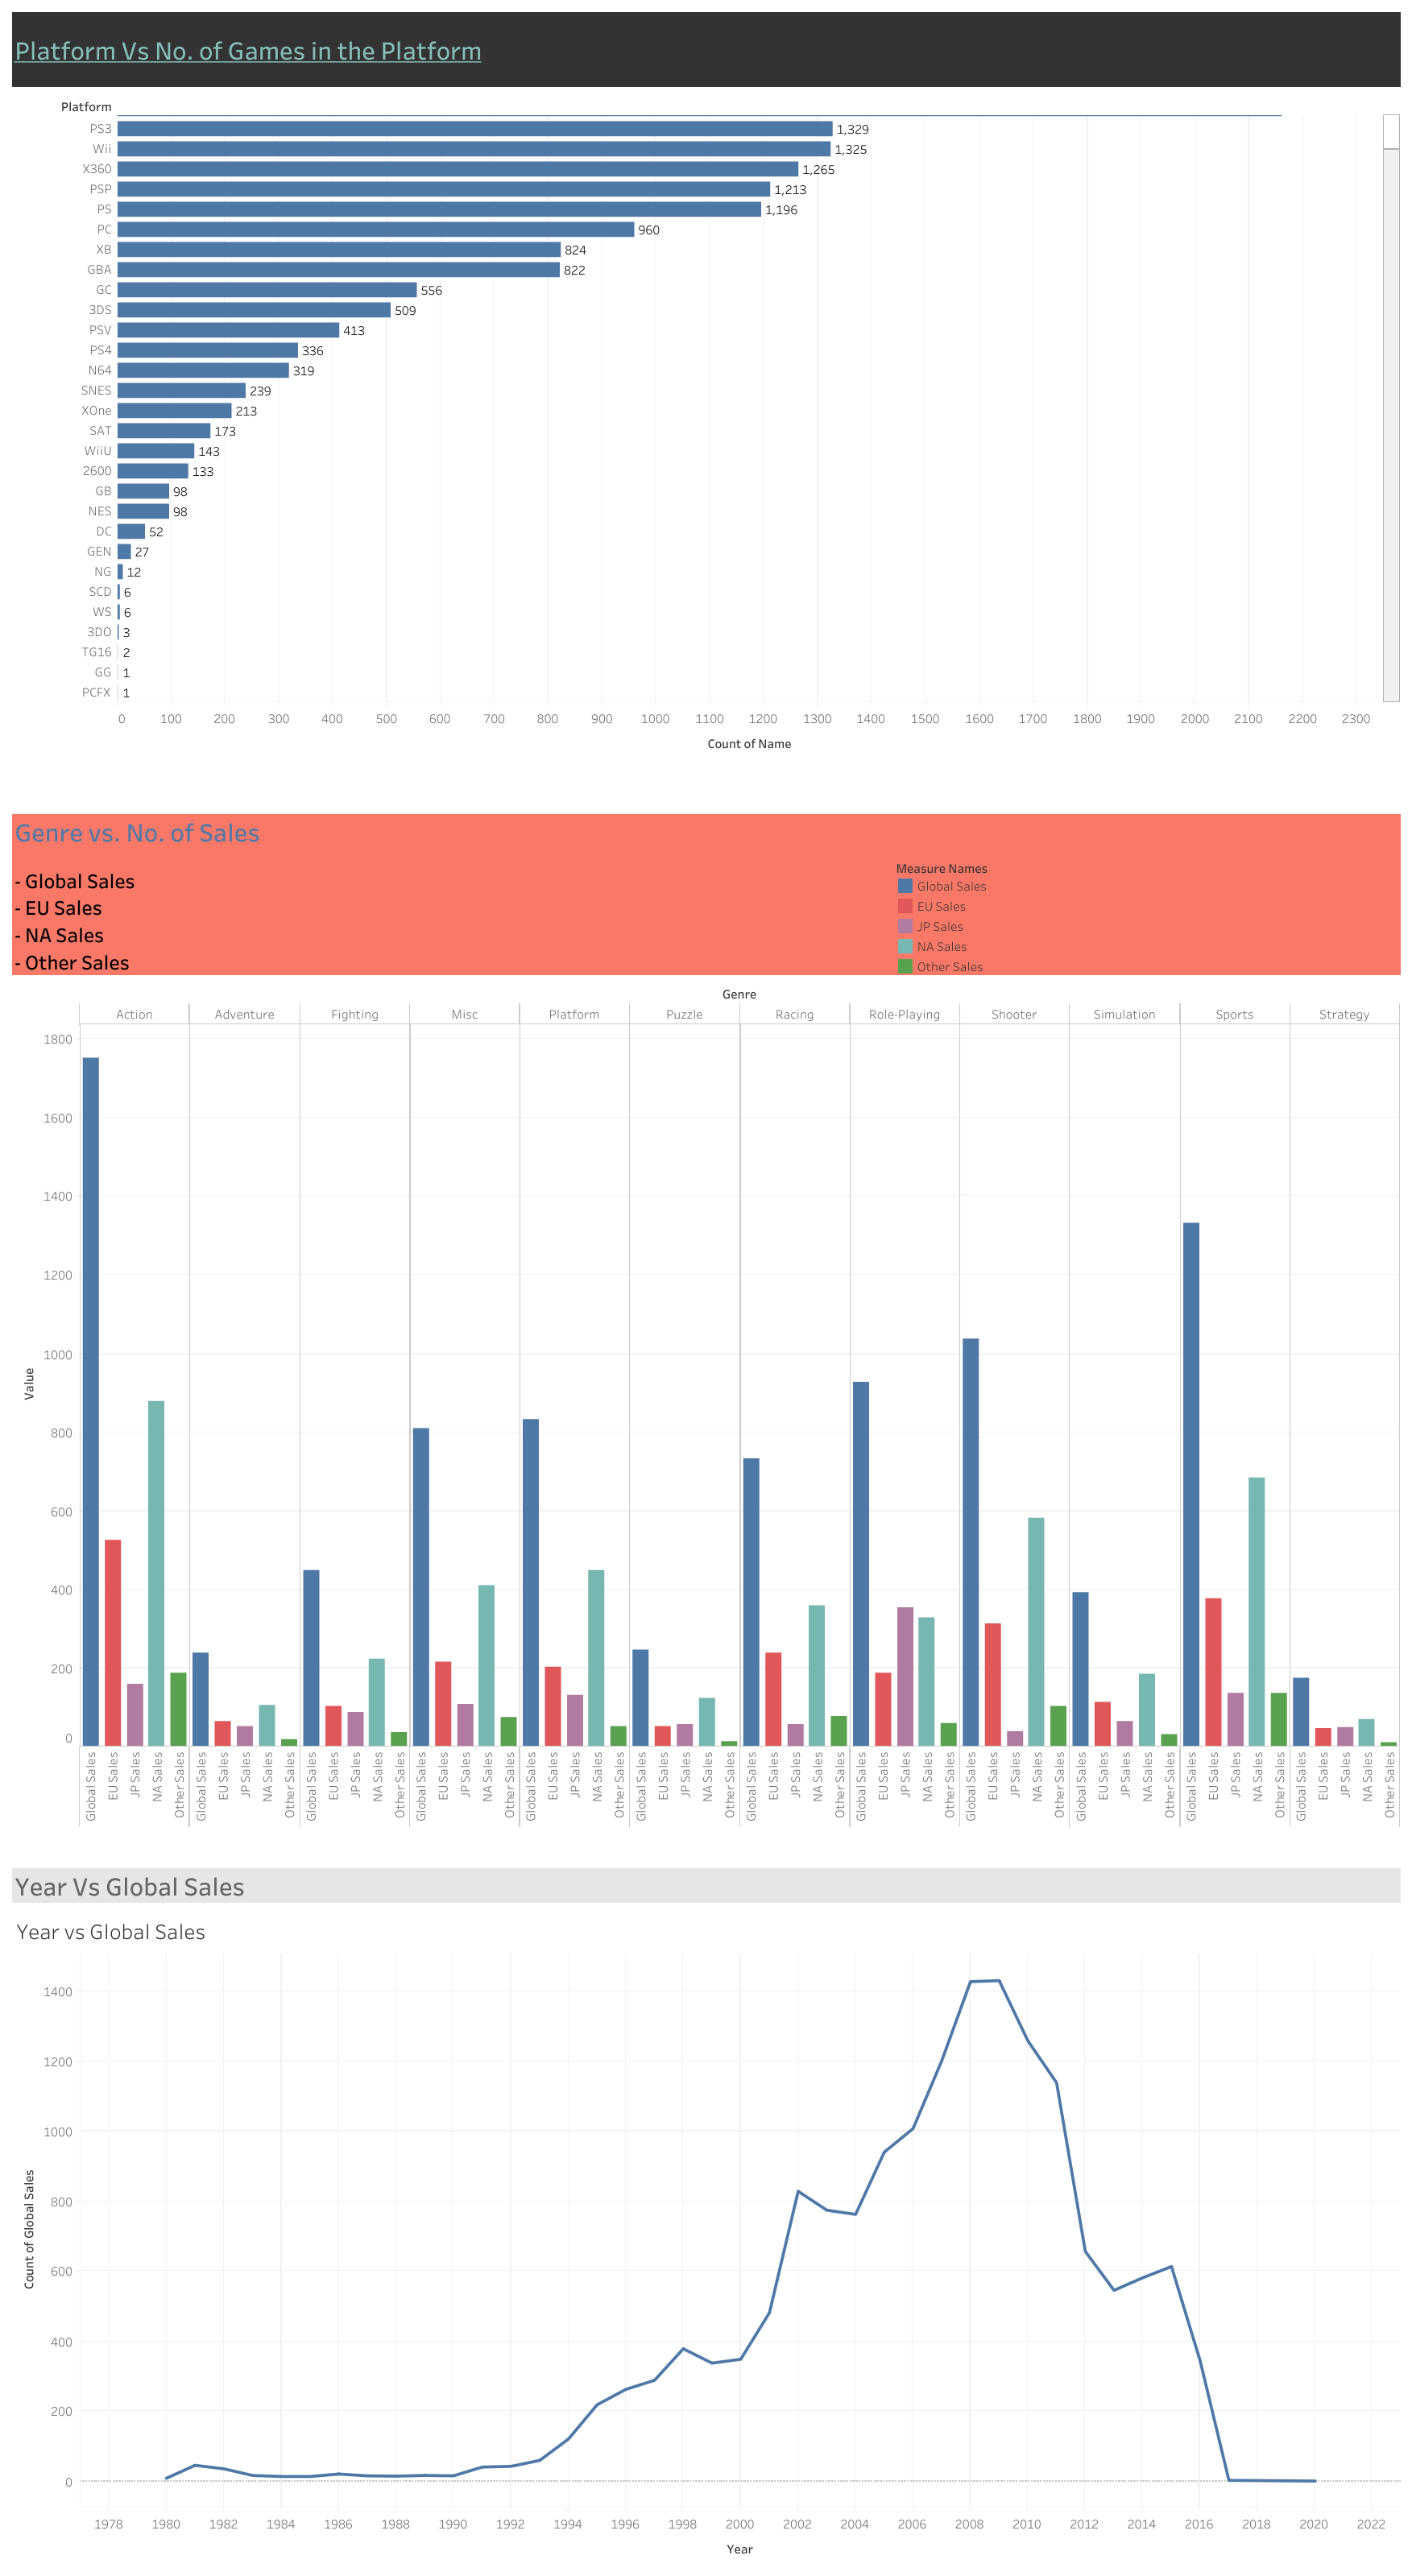

This screenshot's page, from the dashboard's own definition file:
{"tool":"tableau","page":{"name":"Global Video Game Sales","canvas":[1000,1000],"units":"permille","ordinal":0},"visuals":[{"type":"text","box":[5.6,3.1,988.7,32]},{"type":"worksheet","title":"Platform vs No. of Game in the Platform","mark":"Automatic","rows":["Platform"],"cols":["Name"],"box":[5.6,35.2,988.7,260.9]},{"type":"blank","box":[5.6,296.1,988.7,18.4]},{"type":"text","box":[5.6,314.5,988.7,77.4]},{"type":"legend","title":"Genre vs No. of Sales (JP, EU, NA sales)","param":"[federated.15a7ewp0mmy5w619u7s9h1dfeb0t].[:Measure Names]","box":[633.8,332.4,354.9,49.6]},{"type":"worksheet","title":"Genre vs No. of Sales (JP, EU, NA sales)","mark":"Automatic","cols":["Genre"],"box":[5.6,391.8,988.7,330.9]},{"type":"blank","box":[5.6,722.7,988.7,12.5]},{"type":"text","box":[5.6,735.2,988.7,19.2]},{"type":"worksheet","title":"Year vs Global Sales","mark":"Automatic","rows":["Global_Sales"],"cols":["Year"],"box":[5.6,754.3,988.7,242.5]}]}

Visuals, with their boxes on the dashboard's canvas, which has no fixed pixel size, in thousandths of its width and height (x1, y1, x2, y2). These are canvas units, not pixel positions in the 1412x2576 screenshot, which may show the page scaled, cropped or inside an application window:
text: 6 3 994 35
"Platform vs No. of Game in the Platform" worksheet: 6 35 994 296
blank: 6 296 994 314
text: 6 314 994 392
"Genre vs No. of Sales (JP, EU, NA sales)" legend: 634 332 989 382
"Genre vs No. of Sales (JP, EU, NA sales)" worksheet: 6 392 994 723
blank: 6 723 994 735
text: 6 735 994 754
"Year vs Global Sales" worksheet: 6 754 994 997
